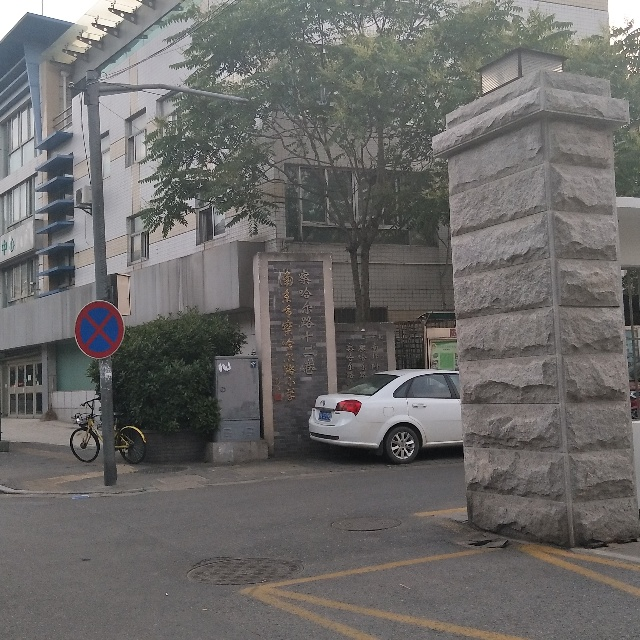stop: (73, 298, 128, 362)
